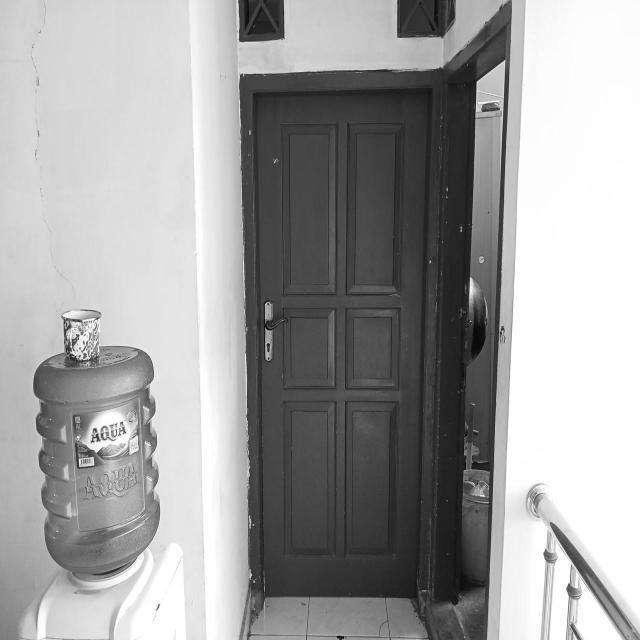door: (235, 67, 449, 603)
